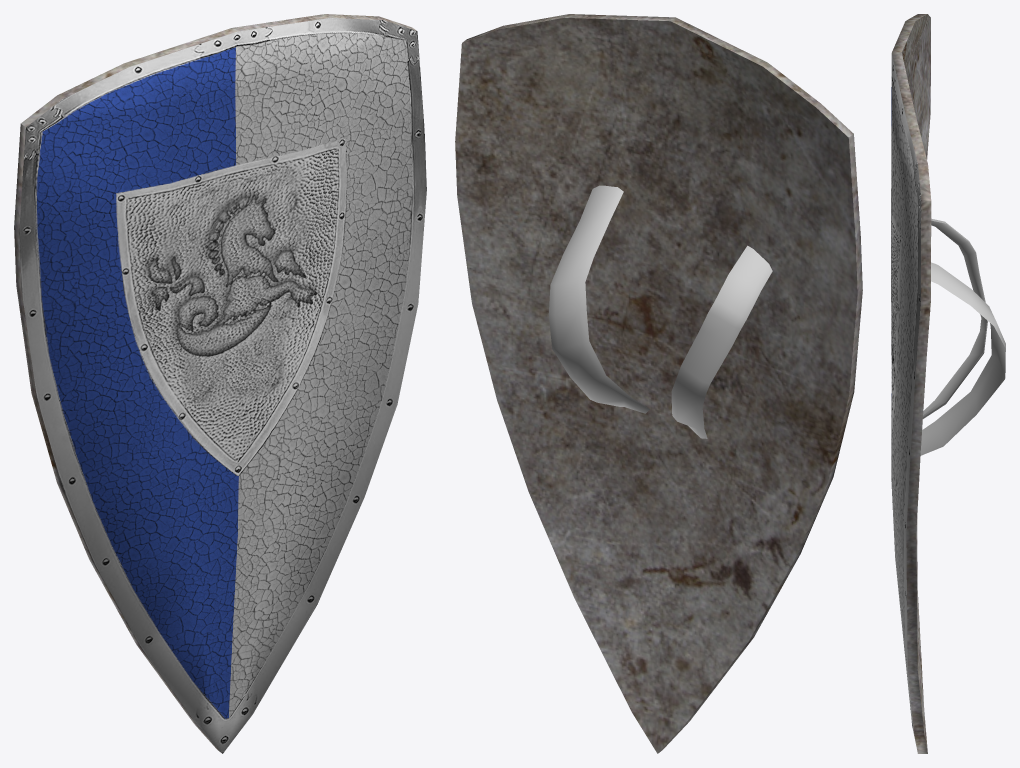
Rendered from Shield.fbx.
The picture shows the model from 3 angles, left to right: view 1: azimuth 30°, elevation 25°; view 2: azimuth 150°, elevation 25°; view 3: azimuth 270°, elevation 25°; orthographic projection. The views are drawn at different scales.
Parts seen in each view (by area): view 1: Medieval_Man_Shield; view 2: Medieval_Man_Shield; view 3: Medieval_Man_Shield.
Boxes of the visible parts, x1,y1,x2,y2 form: Medieval_Man_Shield: (14, 14, 426, 753); Medieval_Man_Shield: (455, 14, 862, 753); Medieval_Man_Shield: (891, 14, 1005, 753).
Size of the model in its own units: 44.62 by 76.95 by 11.43.
